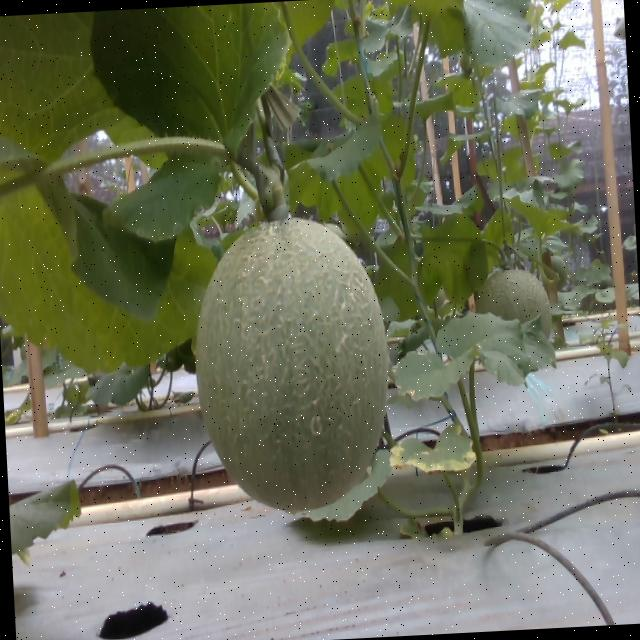melon: (197, 218, 389, 511)
